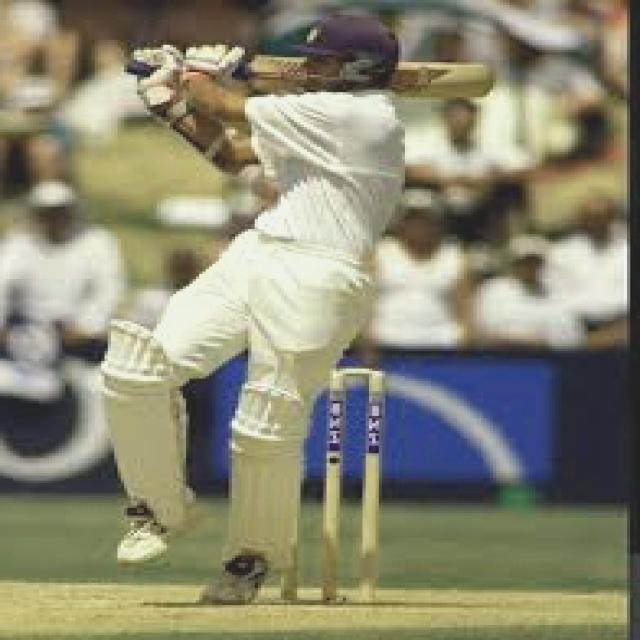toe: (482, 62, 499, 96)
